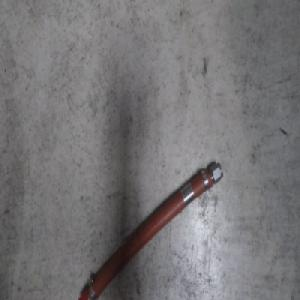Hose: (76, 158, 223, 300)
